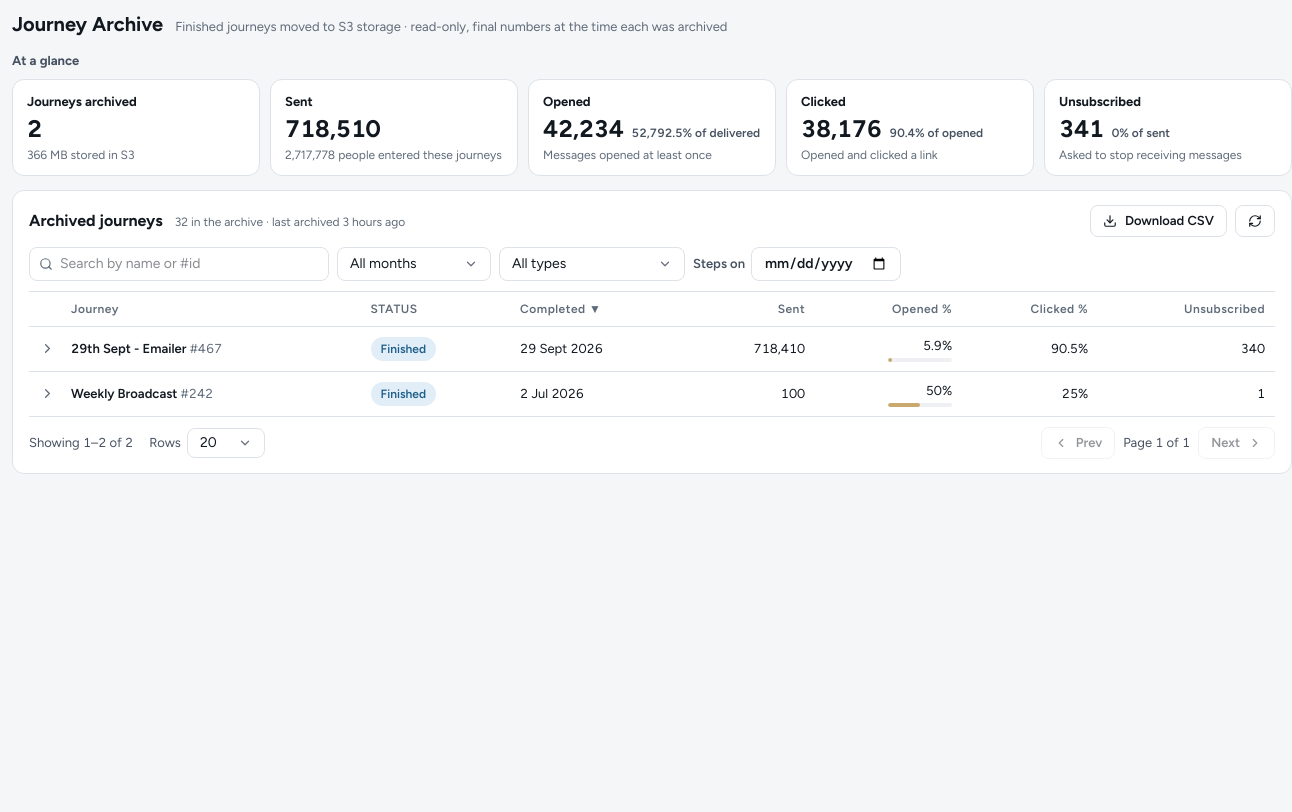
Test: Journey Archive page › "Steps on" a day asks the archive for that day; no eye button when the email was not archived
Expected: the text "Weekly Broadcast" is shown, [71,386,177,401]
Type "2026-07-02" into the date field named "Step breakdown day" at (826, 264), box [751,247,901,281]
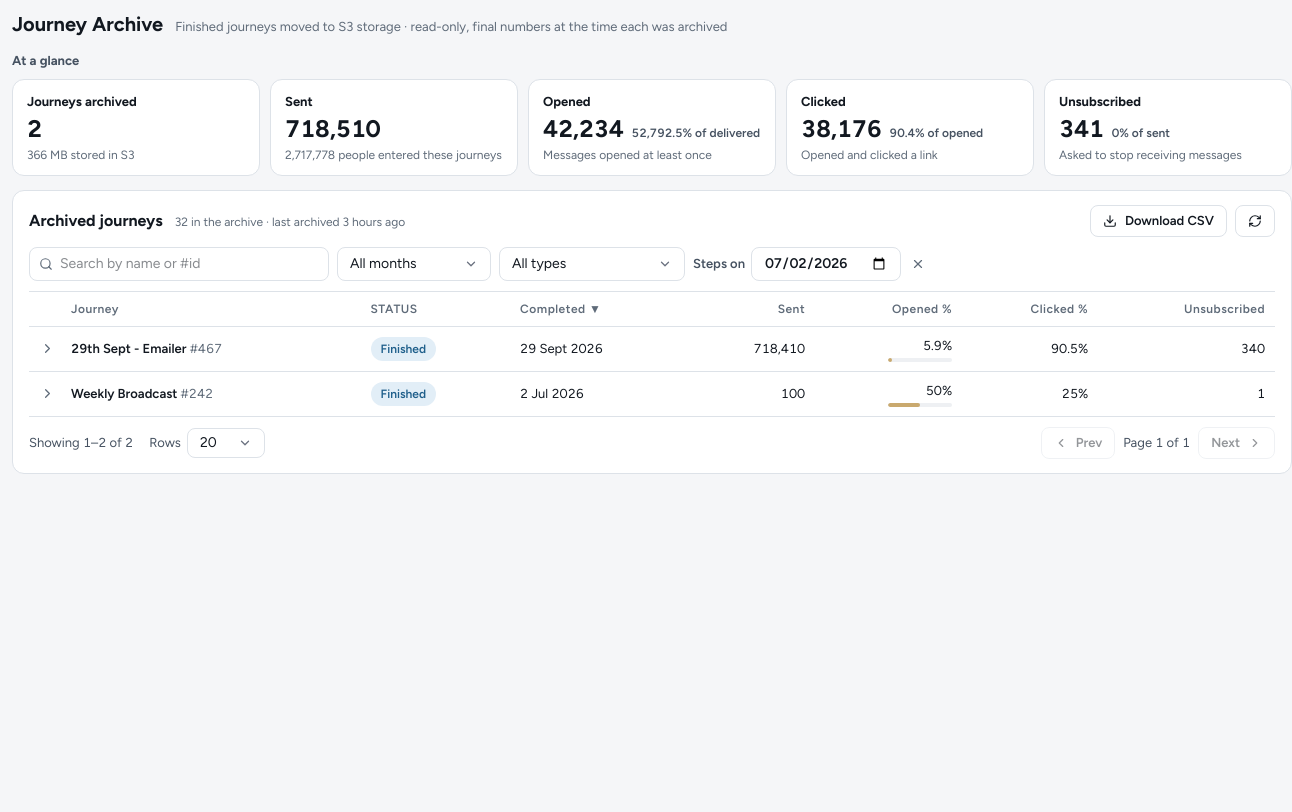
Click the button named "Show steps for Weekly Broadcast" at (47, 394), box [33,380,61,408]
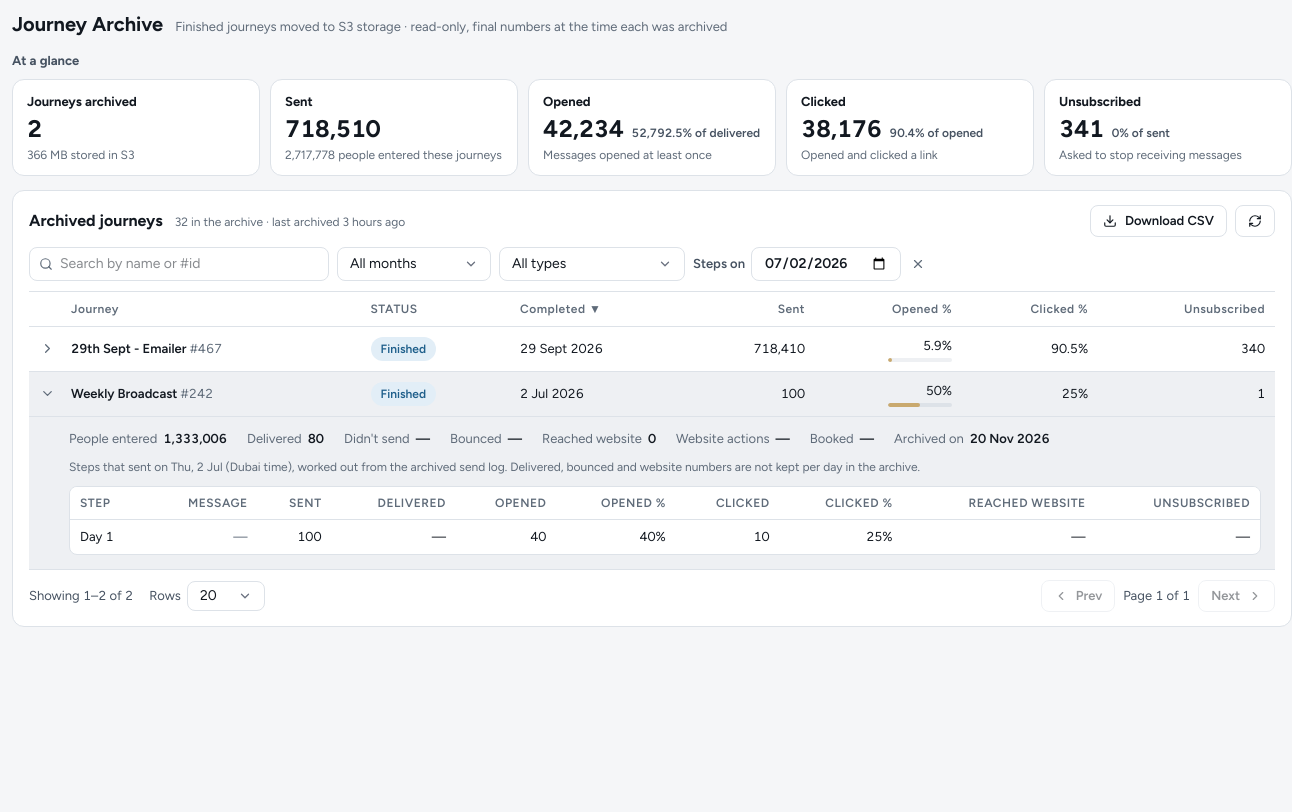
Expected: the element "Archived journeys" shows "Steps that sent on", [69,460,171,474]
